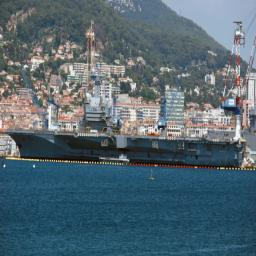Portanaves: (6, 102, 250, 164)
